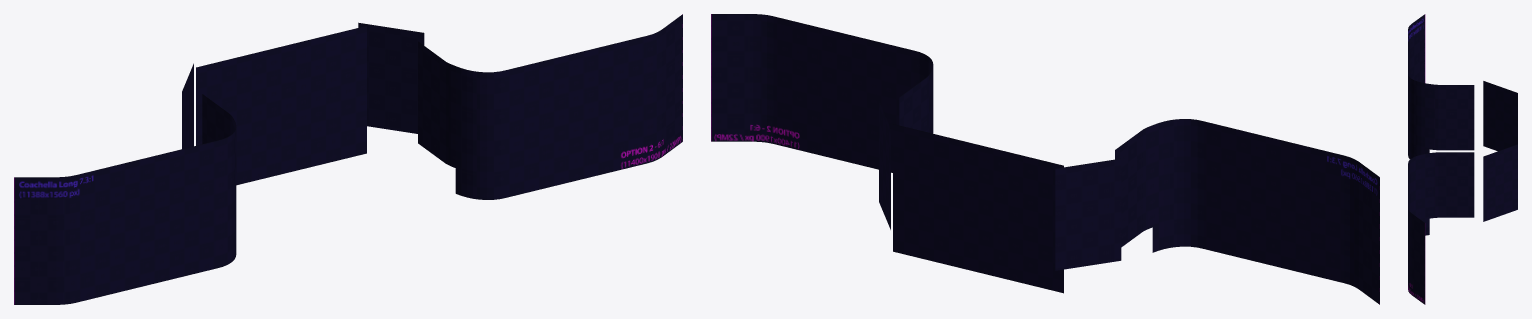
The model's file is ANYMA_Coachella_StageDec_v009_Option2_noFront.glb.
The picture shows the model from 3 angles, left to right: view 1: azimuth 30°, elevation 25°; view 2: azimuth 150°, elevation 25°; view 3: azimuth 270°, elevation 25°; orthographic projection. The views are drawn at different scales.
Visible parts, largest first — view 1: LED_SL_WING_IRL+.001, LED_SR_WING_IRL.011, LED_US_WALL_IRL.006, LED_SL_GARAGE_IRL.001, LED_SR_GARAGE_IRL.011; view 2: LED_SR_WING_IRL.011, LED_SL_WING_IRL+.001, LED_US_WALL_IRL.006, LED_SR_GARAGE_IRL.011, LED_SL_GARAGE_IRL.001; view 3: LED_SL_WING_IRL+.001, LED_SR_WING_IRL.011, LED_SL_GARAGE_IRL.001, LED_SR_GARAGE_IRL.011.
Boxes of the visible parts, bbox=[...] form: LED_SL_WING_IRL+.001: bbox=[418, 14, 682, 199]; LED_SR_WING_IRL.011: bbox=[14, 94, 236, 304]; LED_US_WALL_IRL.006: bbox=[196, 26, 366, 185]; LED_SL_GARAGE_IRL.001: bbox=[358, 22, 424, 133]; LED_SR_GARAGE_IRL.011: bbox=[182, 63, 193, 148]; LED_SR_WING_IRL.011: bbox=[1115, 119, 1379, 304]; LED_SL_WING_IRL+.001: bbox=[711, 14, 933, 172]; LED_US_WALL_IRL.006: bbox=[893, 124, 1063, 293]; LED_SR_GARAGE_IRL.011: bbox=[1055, 158, 1121, 270]; LED_SL_GARAGE_IRL.001: bbox=[879, 100, 890, 229]; LED_SL_WING_IRL+.001: bbox=[1408, 152, 1474, 304]; LED_SR_WING_IRL.011: bbox=[1408, 14, 1474, 159]; LED_SL_GARAGE_IRL.001: bbox=[1483, 144, 1517, 221]; LED_SR_GARAGE_IRL.011: bbox=[1483, 81, 1517, 151].
Size of the model in its own units: 65.79 by 12.01 by 14.6.
1 material, 1 textured.
